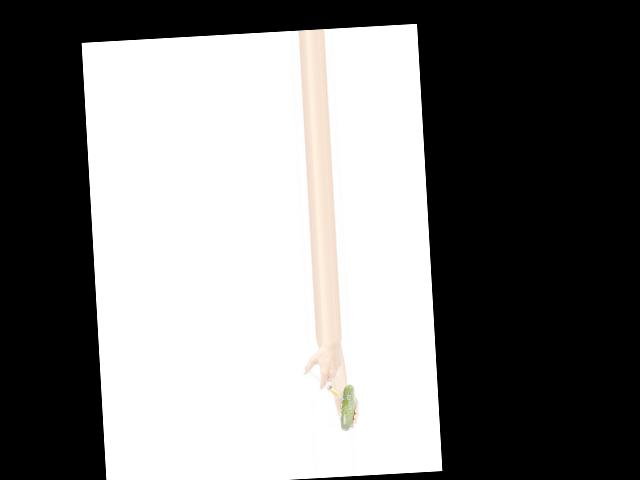cucumber: (339, 384, 356, 432)
